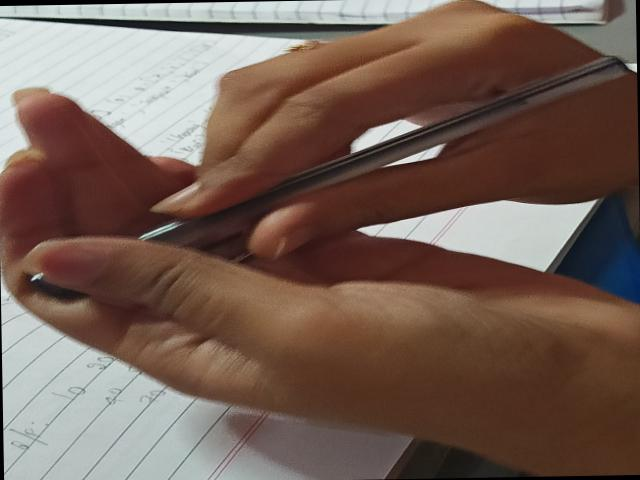PEN: (1, 29, 637, 321)
